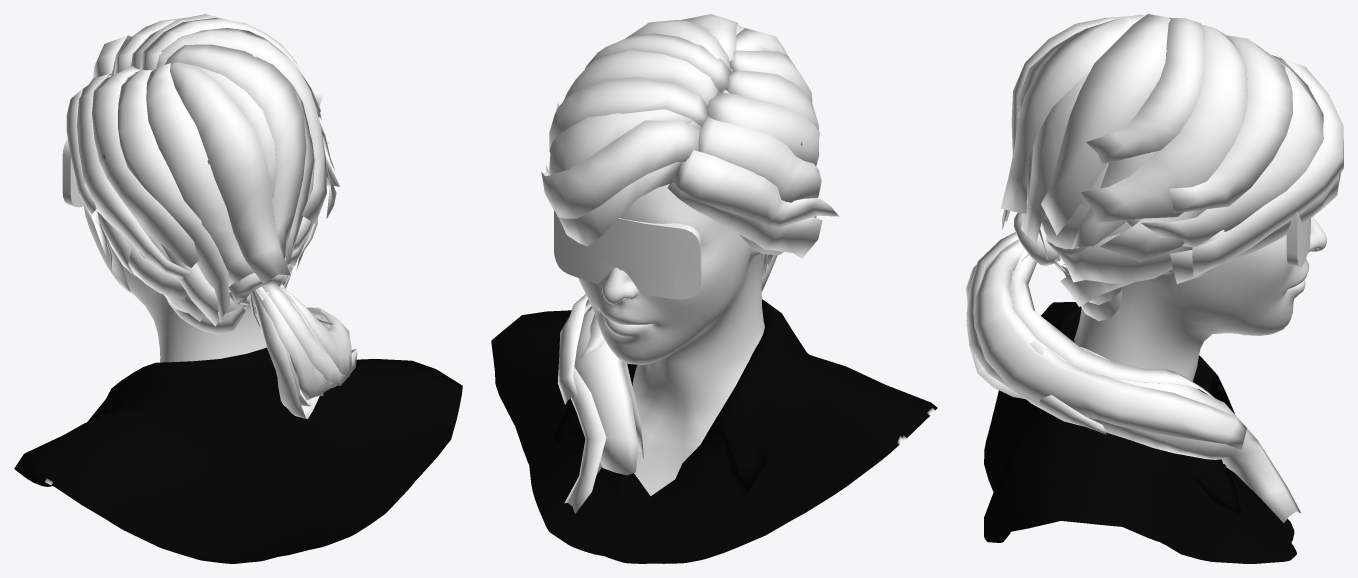
File: TeenWomanMask.fbx
3 renders of one model, left to right at view 1: azimuth 30°, elevation 25°; view 2: azimuth 150°, elevation 25°; view 3: azimuth 270°, elevation 25°, orthographic. The views are drawn at different scales.
Parts seen in each view (by area): view 1: woman_obj; view 2: woman_obj; view 3: woman_obj.
Boxes of the visible parts, <box> form: woman_obj: <box>14,14,462,563</box>; woman_obj: <box>491,14,937,563</box>; woman_obj: <box>966,14,1343,563</box>.
Bounding box in the file's own units: 39.09 × 43.42 × 29.15.
1 material, 1 textured.
